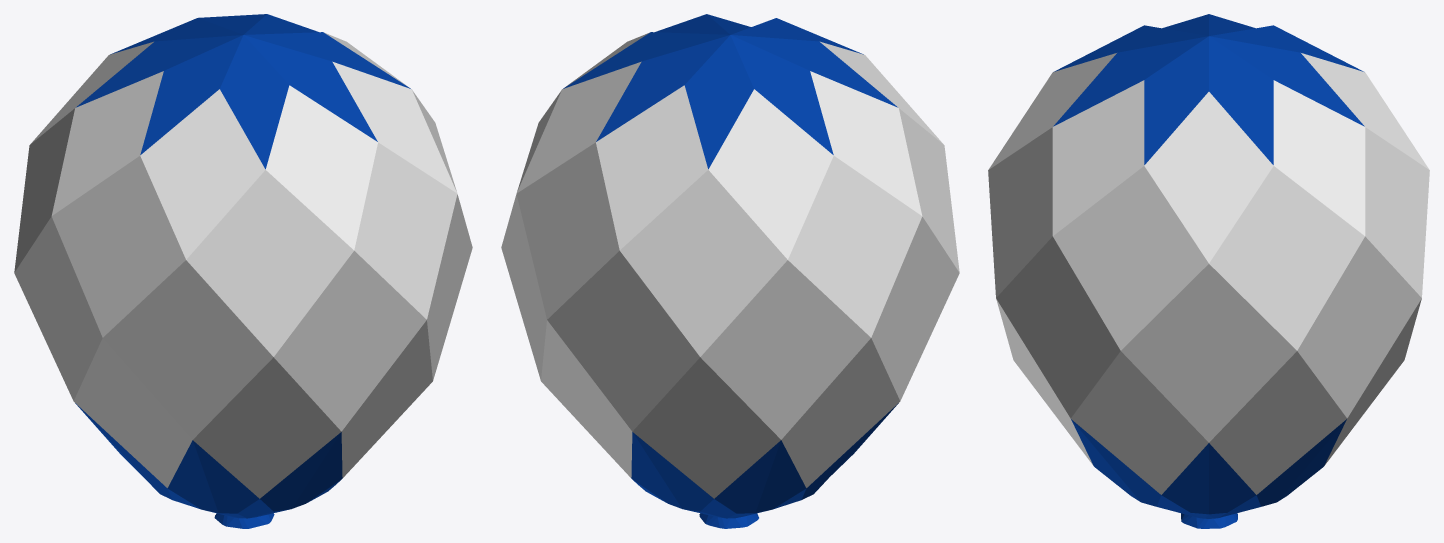
The model's file is StreamBalloon.fbx.
3 views of the same model, side by side, from view 1: azimuth 30°, elevation 25°; view 2: azimuth 150°, elevation 25°; view 3: azimuth 270°, elevation 25° (orthographic).
Visible parts, largest first — view 1: StreamBalloonEncasing, StreamBalloonInside, StreamBalloonOutside; view 2: StreamBalloonEncasing, StreamBalloonInside, StreamBalloonOutside; view 3: StreamBalloonEncasing, StreamBalloonInside, StreamBalloonOutside.
Part boxes in pixels (x1,y1,x2,y2): StreamBalloonEncasing: (14,32,472,498); StreamBalloonInside: (75,14,410,528); StreamBalloonOutside: (79,14,406,528); StreamBalloonEncasing: (501,32,959,498); StreamBalloonInside: (563,14,898,528); StreamBalloonOutside: (566,14,895,528); StreamBalloonEncasing: (988,53,1429,494); StreamBalloonInside: (1053,14,1364,528); StreamBalloonOutside: (1055,14,1361,528).
Size of the model in its own units: 50.03 by 60.02 by 50.03.
